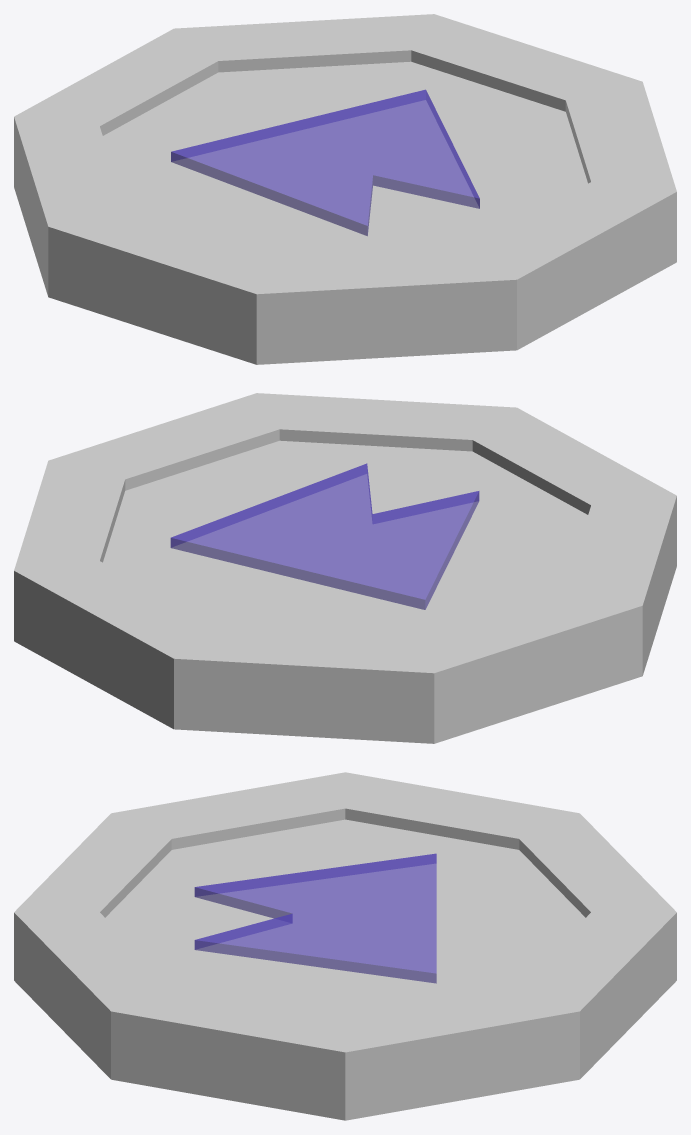
The model's file is WawaCoin.glb.
3 views of the same model, one above another, from view 1: azimuth 30°, elevation 25°; view 2: azimuth 150°, elevation 25°; view 3: azimuth 270°, elevation 25° (orthographic). The views are drawn at different scales.
Parts seen in each view (by area): view 1: Circle, Text; view 2: Circle, Text; view 3: Circle, Text.
Part boxes in pixels (x1,y1,x2,y2): Circle: [14, 14, 676, 364]; Text: [171, 89, 479, 235]; Circle: [14, 393, 676, 743]; Text: [170, 463, 479, 609]; Circle: [14, 772, 676, 1120]; Text: [194, 853, 436, 983].
Size of the model in its own units: 0.7894 by 0.0897 by 0.7894.
